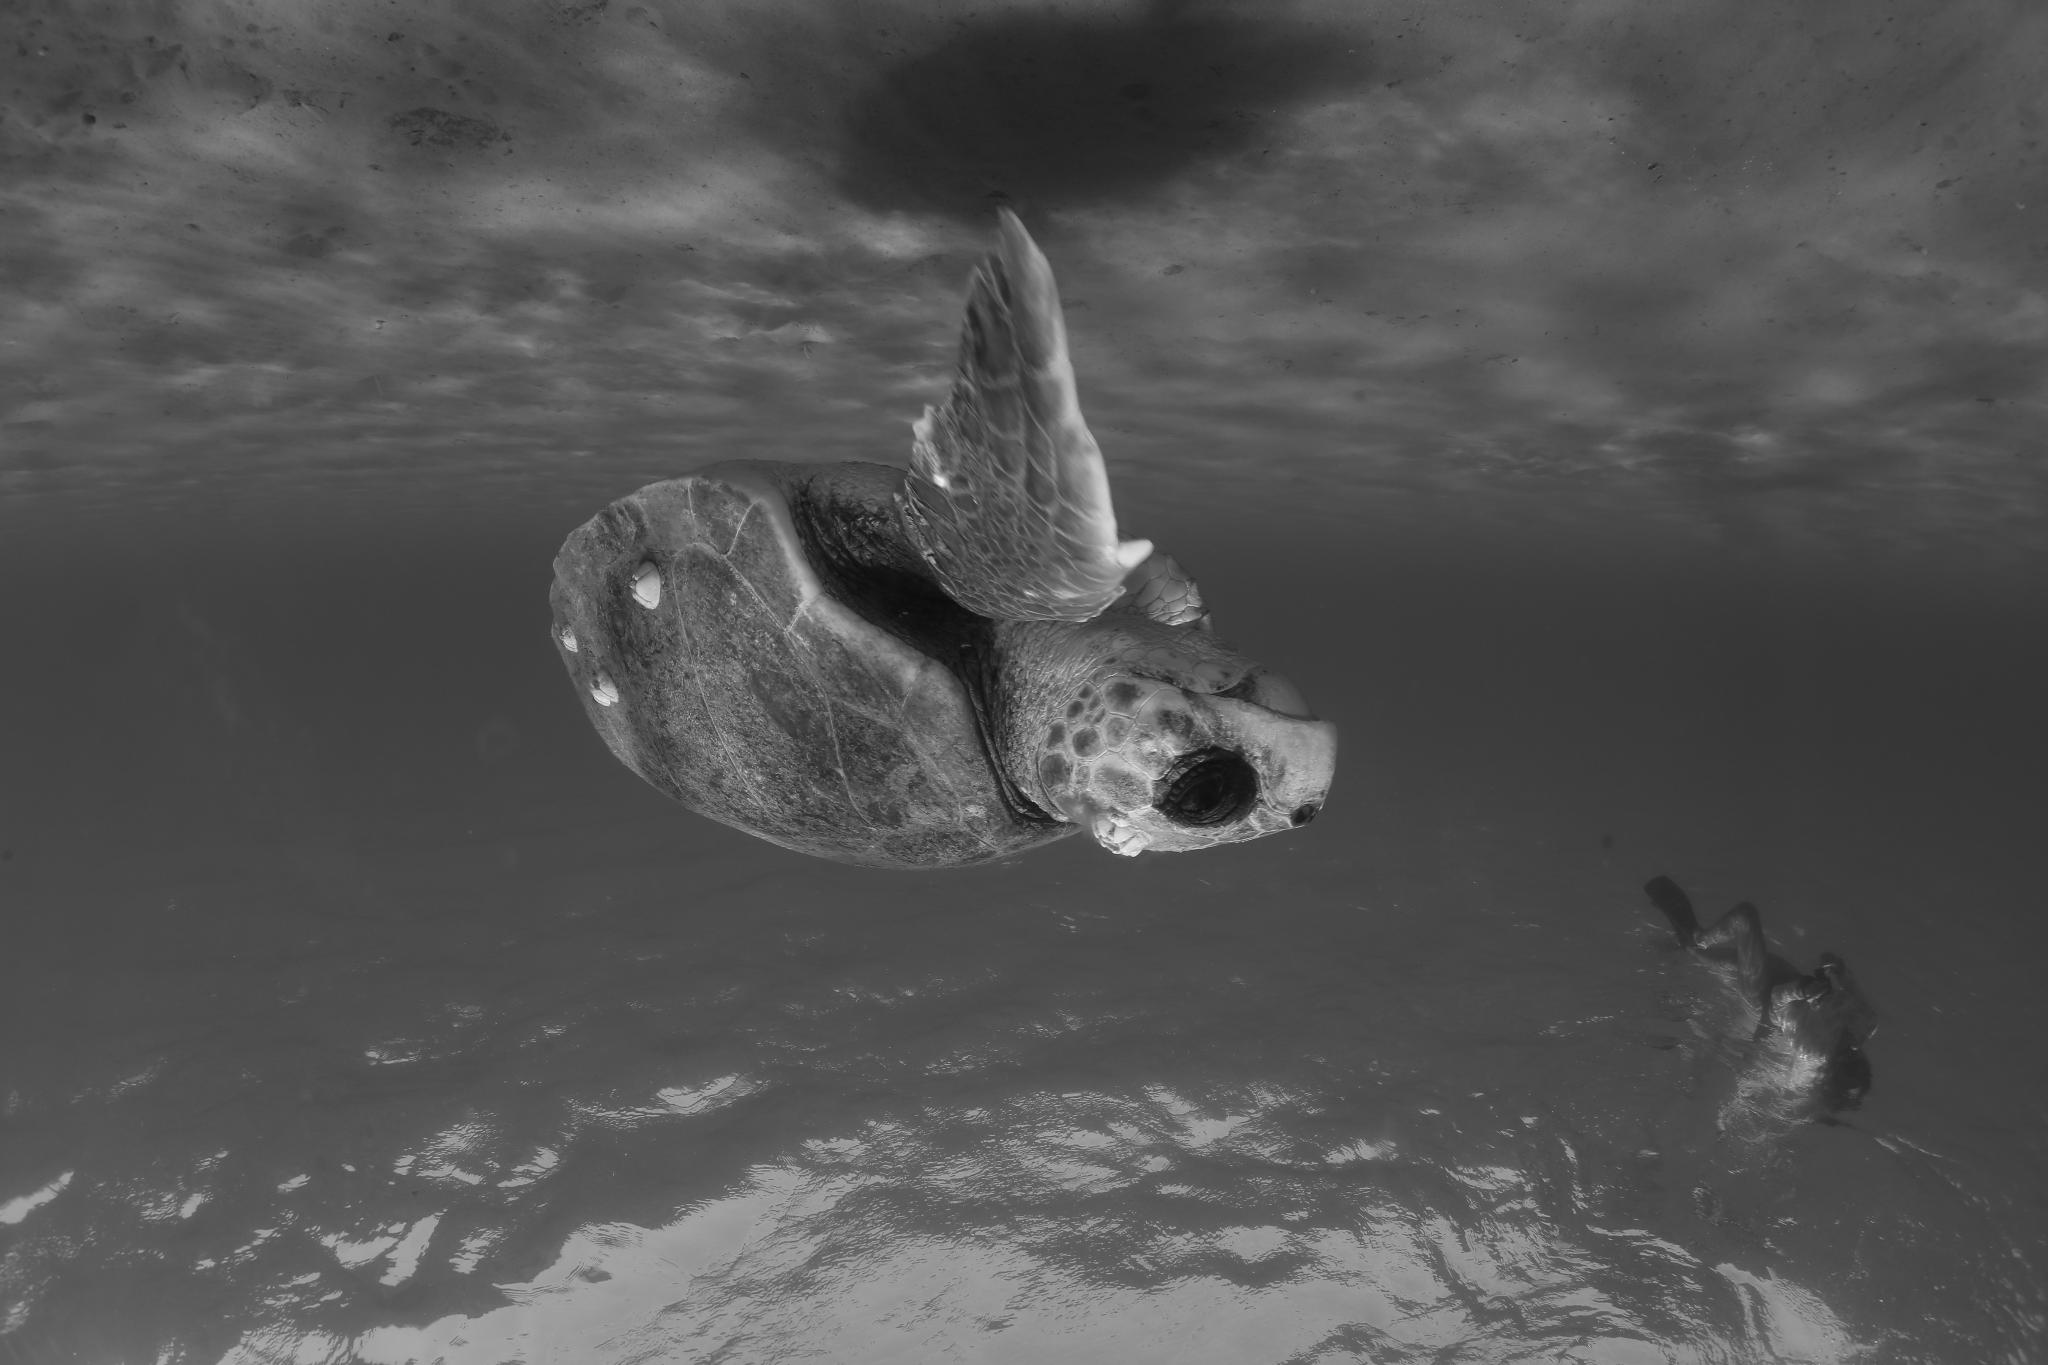Head: (996, 612, 1337, 856)
